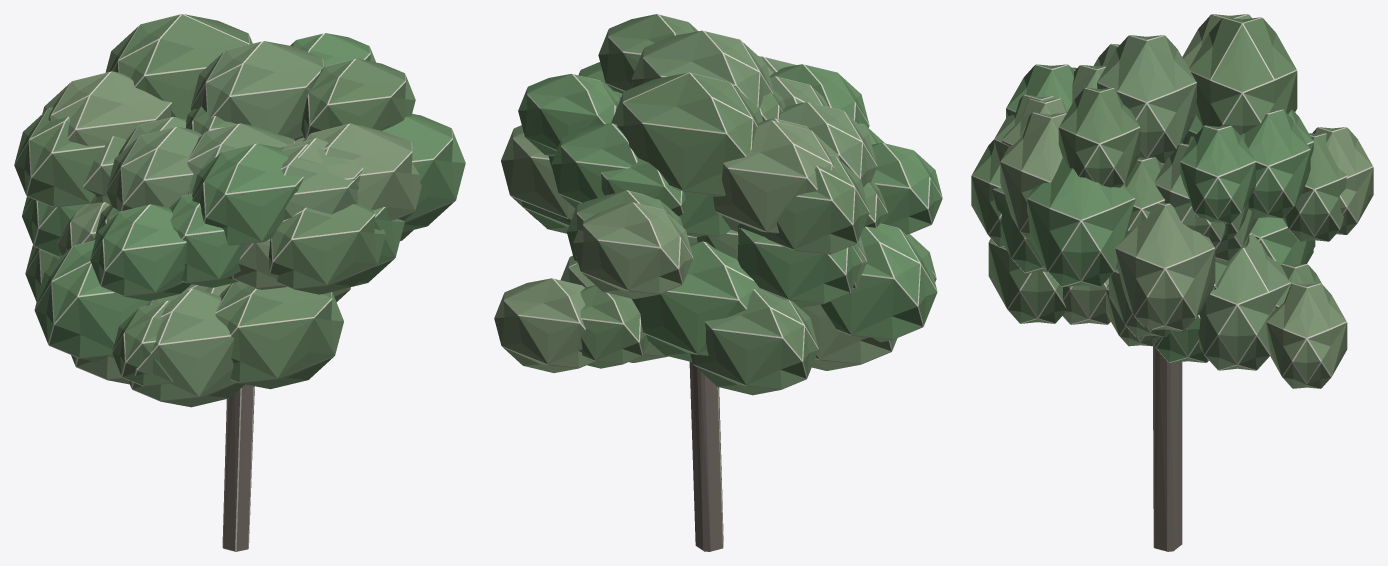
The model's file is district_oak.glb.
3 views of the same model, side by side, from view 1: azimuth 30°, elevation 25°; view 2: azimuth 150°, elevation 25°; view 3: azimuth 270°, elevation 25° (orthographic).
Parts seen in each view (by area): view 1: leaf1, leaf0, leaf2, leaf3, timber; view 2: leaf0, leaf1, leaf3, leaf2, timber; view 3: leaf1, leaf0, leaf3, leaf2, timber.
Part boxes in pixels (x1,y1,x2,y2): leaf1: (14, 14, 415, 389); leaf0: (22, 33, 465, 361); leaf2: (83, 41, 413, 407); leaf3: (42, 71, 421, 384); timber: (222, 384, 254, 551); leaf0: (518, 62, 942, 362); leaf1: (553, 14, 936, 395); leaf3: (494, 56, 897, 372); leaf2: (548, 30, 877, 362); timber: (689, 361, 723, 551); leaf1: (971, 17, 1347, 323); leaf0: (992, 64, 1313, 362); leaf3: (1000, 14, 1373, 388); leaf2: (994, 35, 1290, 370); timber: (1153, 345, 1182, 551).
Bounding box in the file's own units: 6.85 × 8.15 × 5.77.
